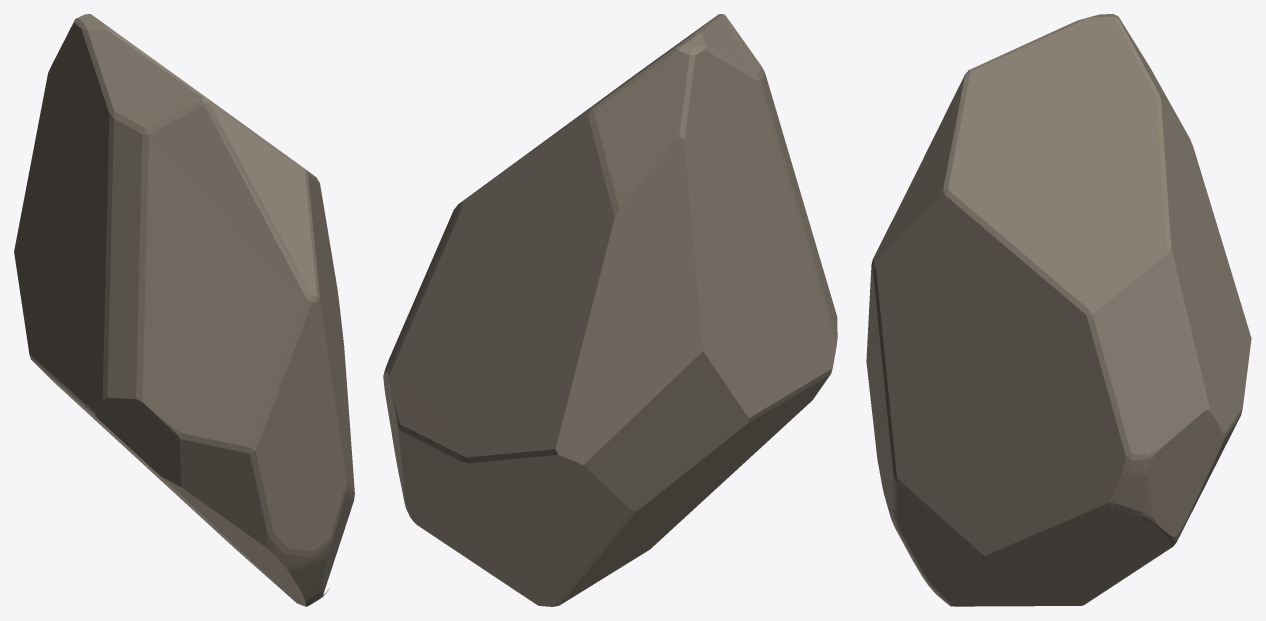
File: RockStylish.fbx
3 renders of one model, left to right at view 1: azimuth 30°, elevation 25°; view 2: azimuth 150°, elevation 25°; view 3: azimuth 270°, elevation 25°, orthographic. The views are drawn at different scales.
Parts seen in each view (by area): view 1: Sphere; view 2: Sphere; view 3: Sphere.
Boxes of the visible parts, bbox=[...] form: Sphere: bbox=[14, 14, 354, 606]; Sphere: bbox=[383, 14, 837, 606]; Sphere: bbox=[866, 14, 1251, 606].
Size of the model in its own units: 165 by 272 by 182.
